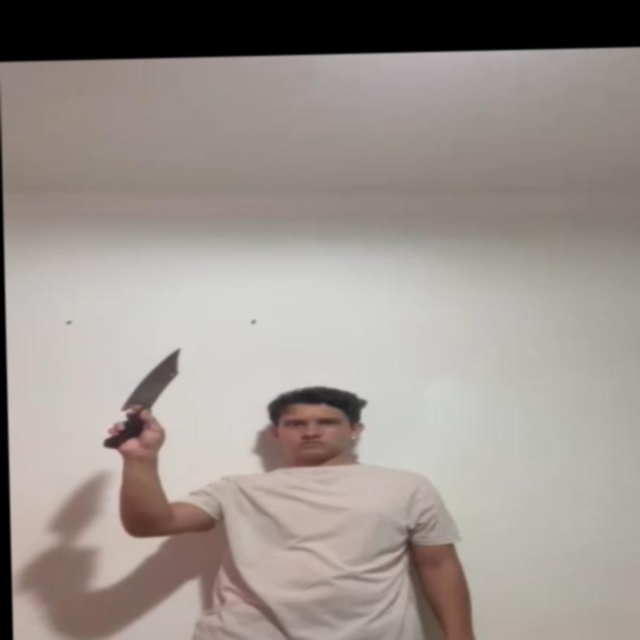Sharp-Object: (126, 350, 184, 404)
